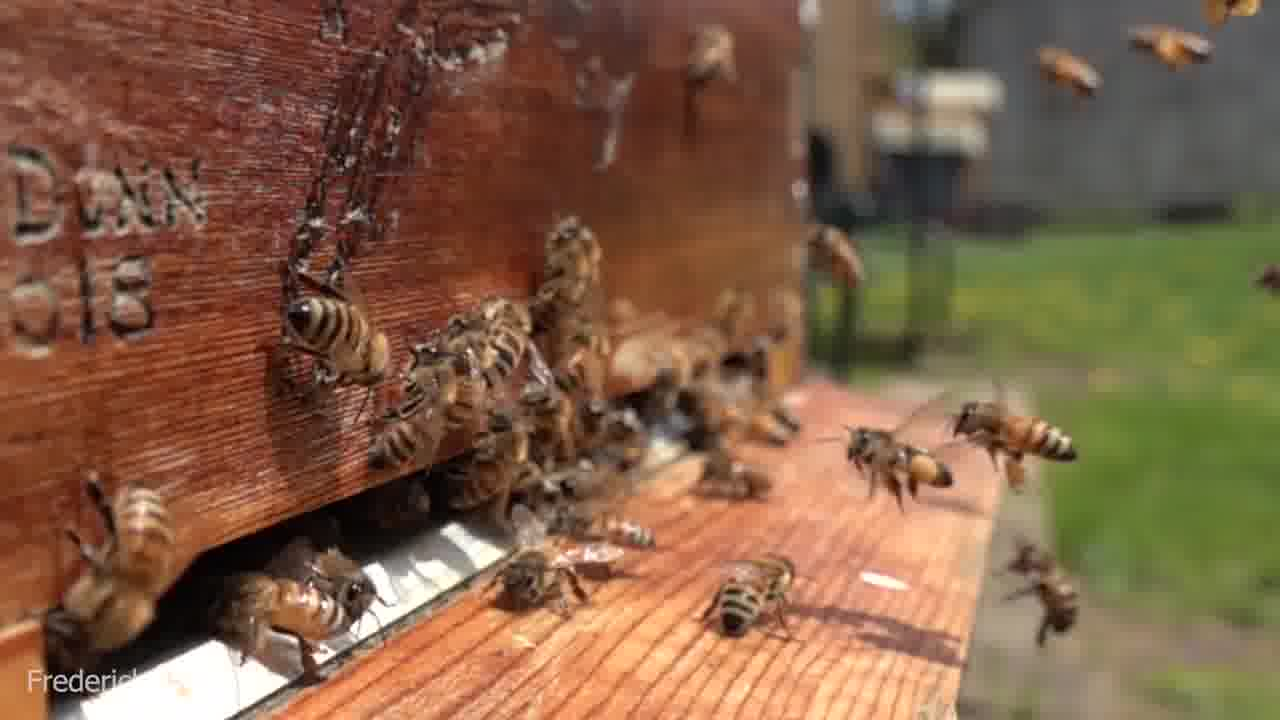pollen: (955, 398, 1068, 498), (843, 422, 962, 501)
